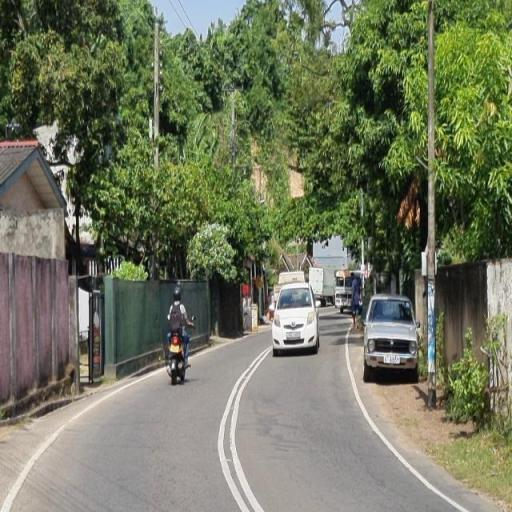double_white_line: (341, 323, 466, 512), (218, 345, 267, 512)
